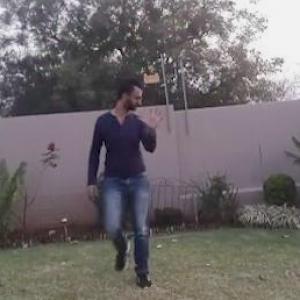follow_hand: (143, 102, 167, 134)
